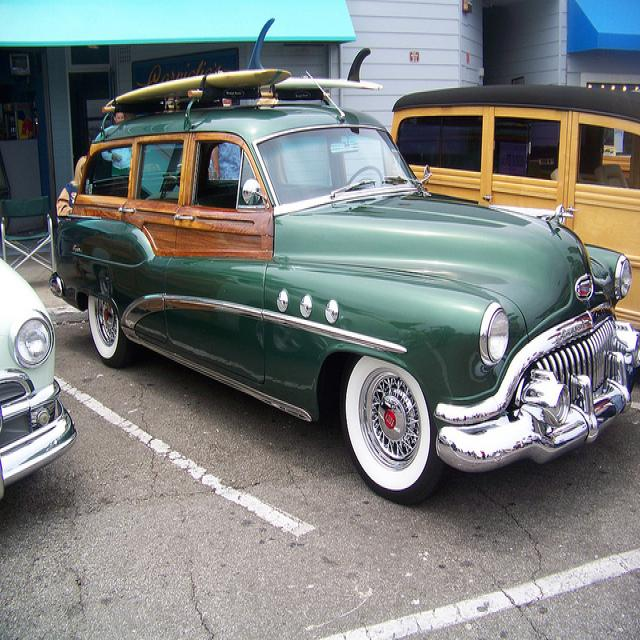Vehicle: (49, 69, 640, 509), (392, 95, 640, 333), (2, 253, 81, 501)
